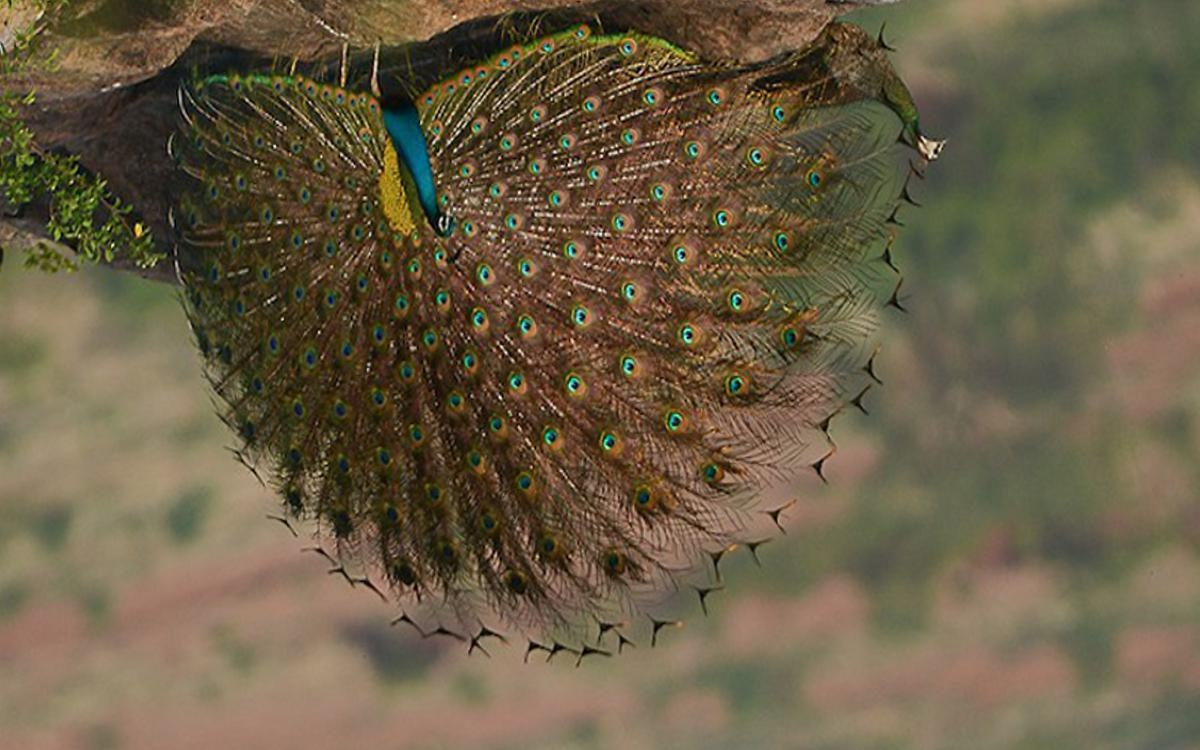peacock: (60, 1, 809, 580)
